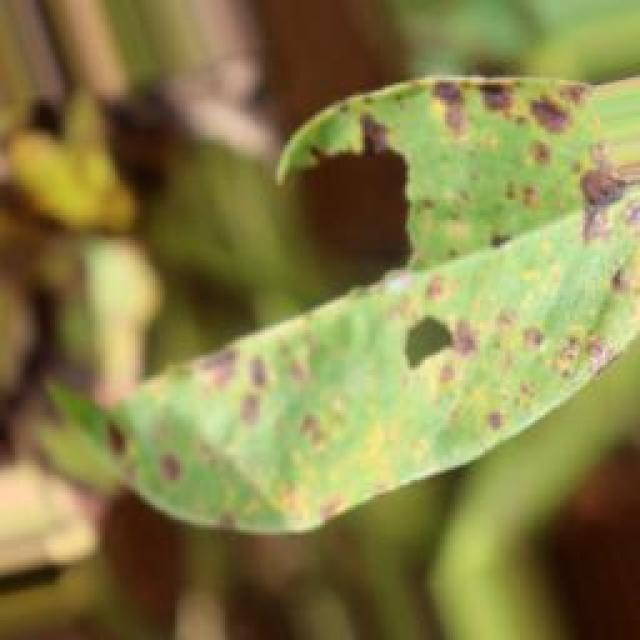Yellowish: (107, 7, 640, 516)
